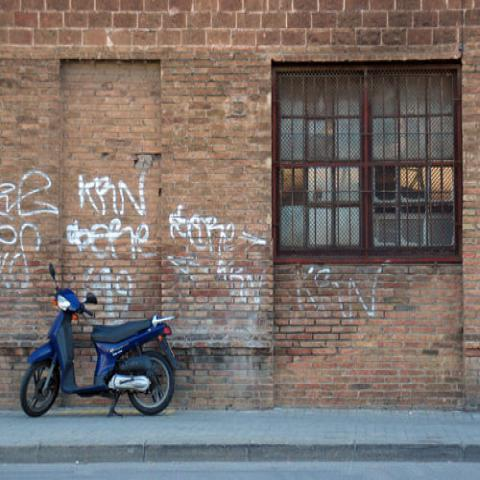motorcycle: (19, 257, 182, 417)
